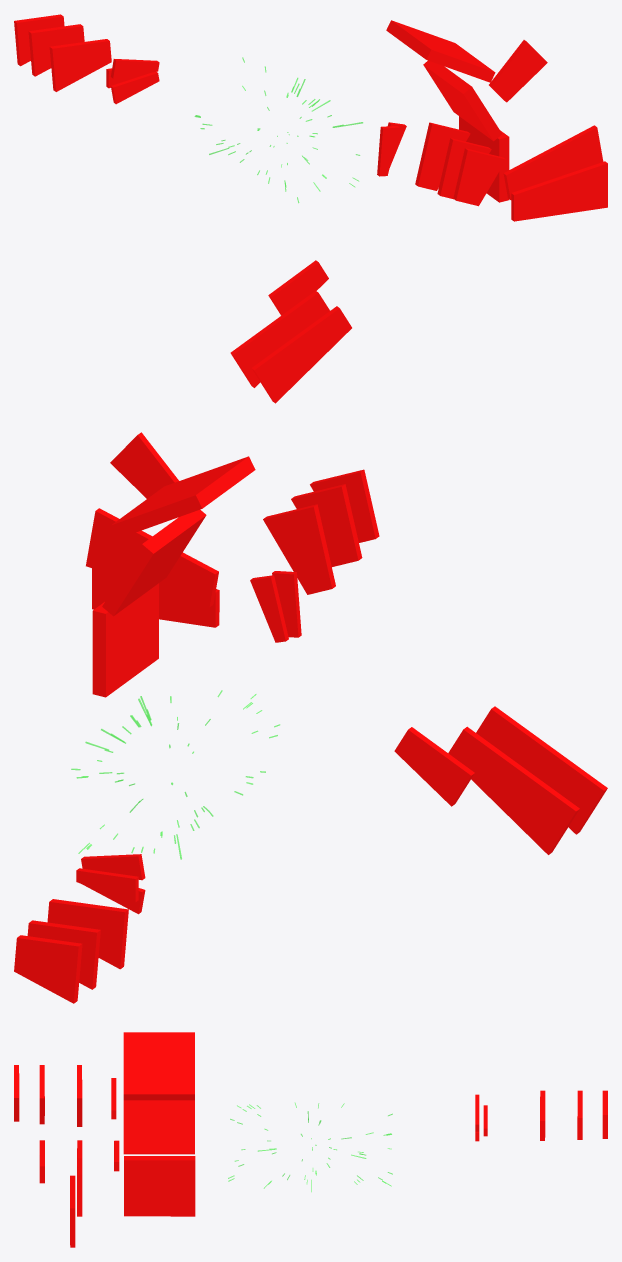
3 views of the same model, one above another, from view 1: azimuth 30°, elevation 25°; view 2: azimuth 150°, elevation 25°; view 3: azimuth 270°, elevation 25° (orthographic). The views are drawn at different scales.
Parts seen in each view (by area): view 1: MuonChambers_V1, EBRecHits_V2; view 2: MuonChambers_V1, EBRecHits_V2; view 3: MuonChambers_V1, EBRecHits_V2.
Part boxes in pixels (bbox=[...]): MuonChambers_V1: bbox=[14, 14, 607, 403]; EBRecHits_V2: bbox=[194, 57, 363, 203]; MuonChambers_V1: bbox=[14, 432, 607, 1003]; EBRecHits_V2: bbox=[71, 690, 280, 859]; MuonChambers_V1: bbox=[14, 1032, 607, 1247]; EBRecHits_V2: bbox=[228, 1102, 392, 1192].
Size of what is drawn, in the model's own units: 13.39 by 9.29 by 20.92.
